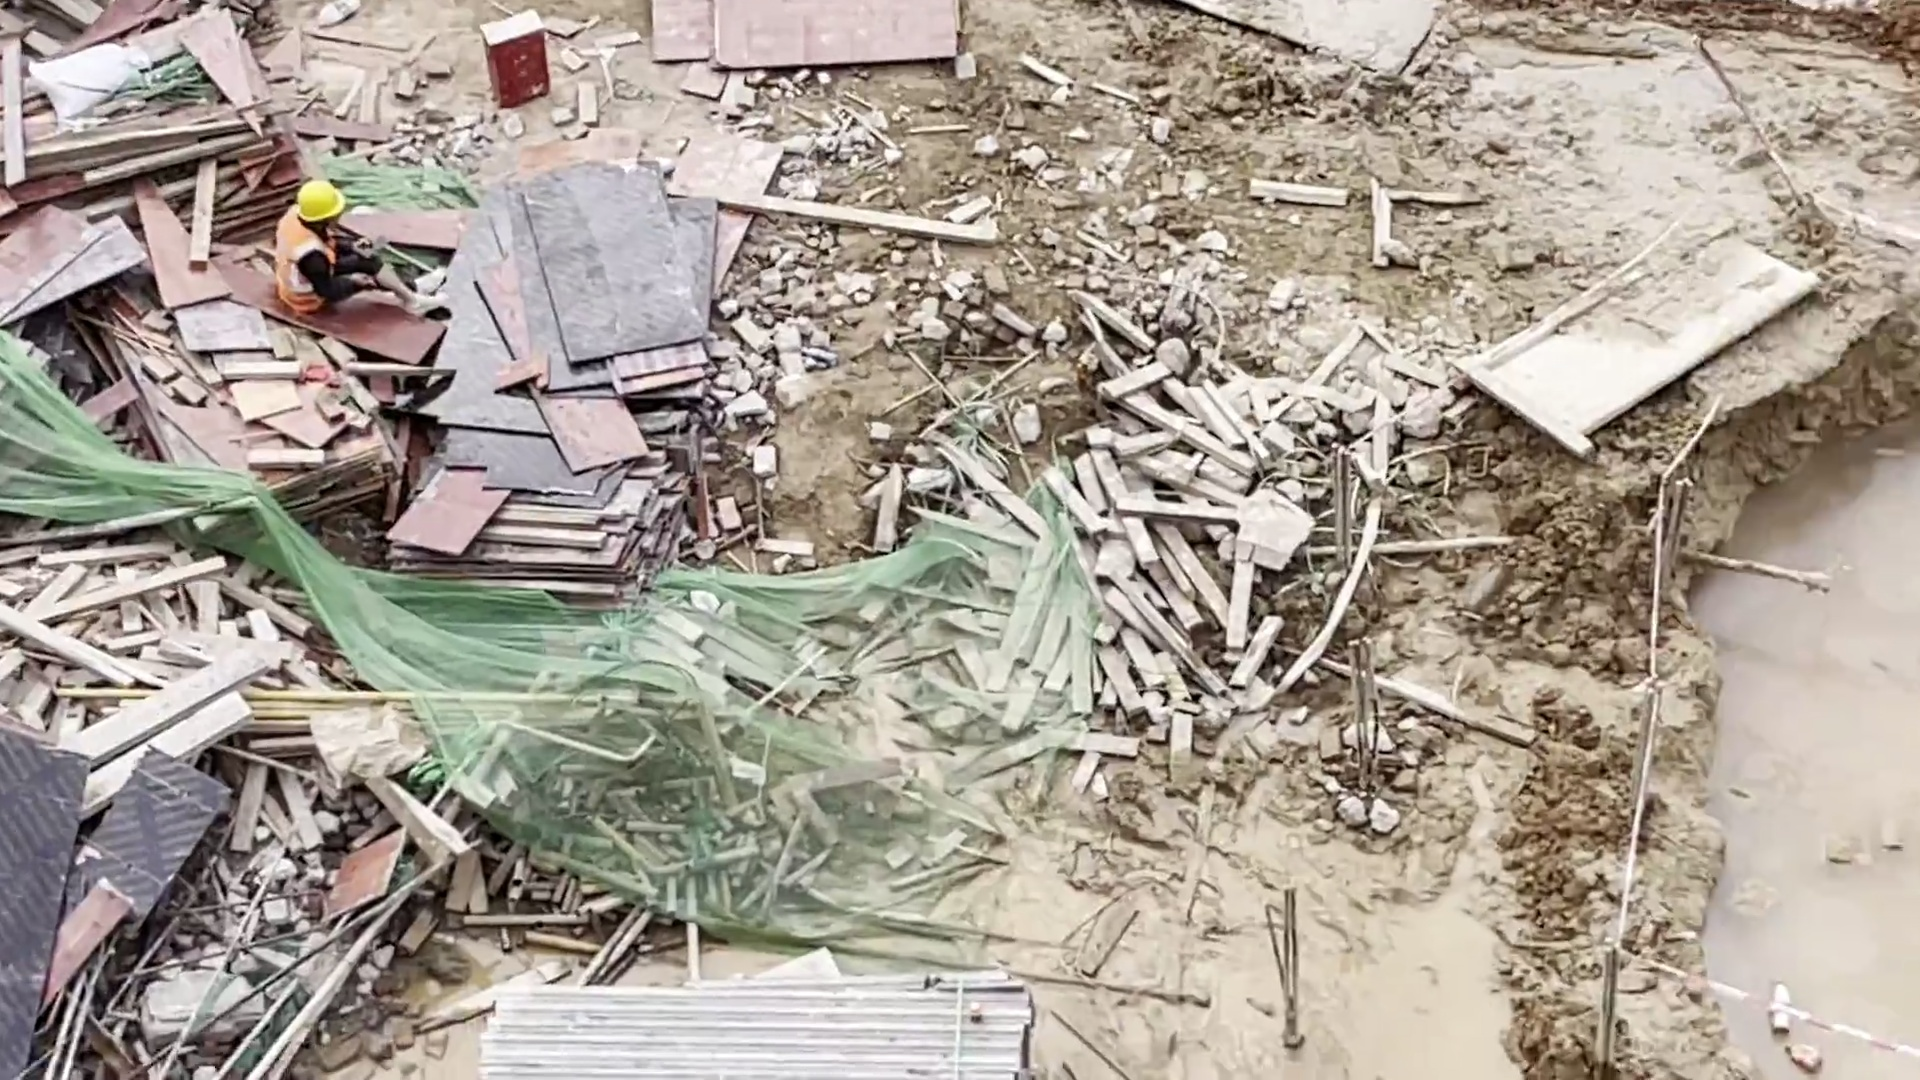helmet: (293, 178, 349, 225)
person: (268, 180, 443, 327)
vest: (276, 208, 336, 312)
